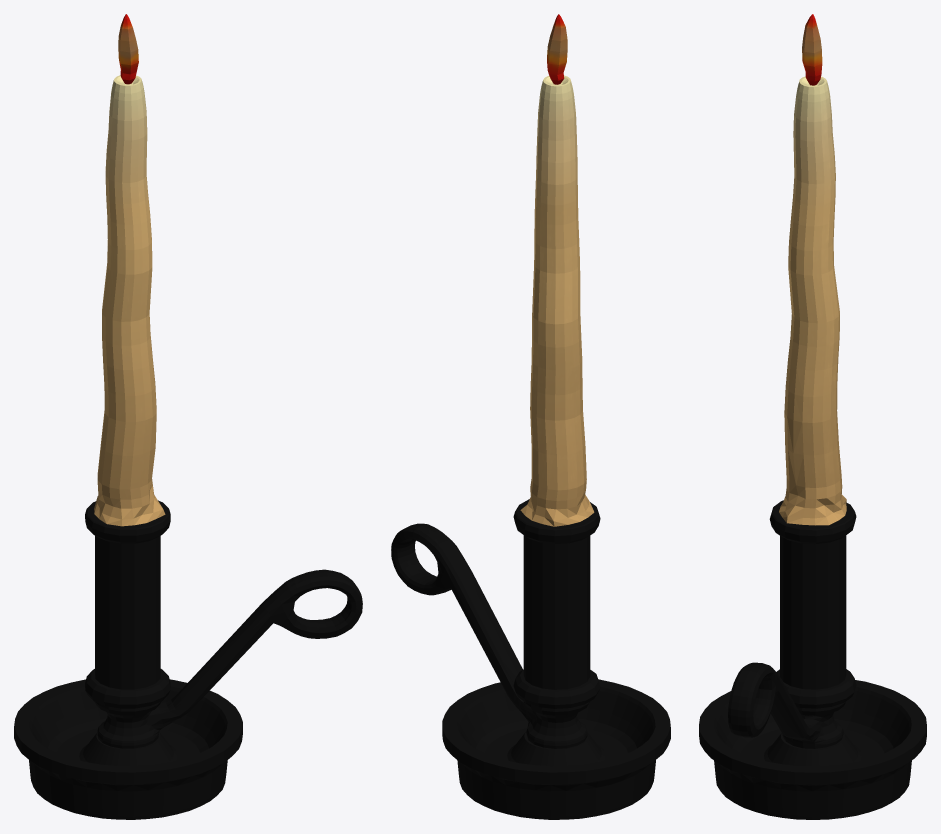
File: Table_Candle_in_Holder_01_VRay.obj
3 renders of one model, left to right at view 1: azimuth 30°, elevation 25°; view 2: azimuth 150°, elevation 25°; view 3: azimuth 270°, elevation 25°, orthographic.
Parts seen in each view (by area): view 1: Candle_Holder, Candle, Flame_001; view 2: Candle_Holder, Candle, Flame_001; view 3: Candle_Holder, Candle, Flame_001.
Boxes of the visible parts, x1,y1,x2,y2 form: Candle_Holder: [14, 500, 362, 819]; Candle: [94, 75, 165, 526]; Flame_001: [118, 14, 138, 84]; Candle_Holder: [391, 499, 670, 819]; Candle: [520, 75, 594, 526]; Flame_001: [547, 14, 567, 84]; Candle_Holder: [699, 500, 926, 819]; Candle: [779, 76, 846, 525]; Flame_001: [802, 14, 822, 85].
Bounding box in the file's own units: 14.74 × 36.36 × 9.83.
Materials: 4 (3 with a texture image).
